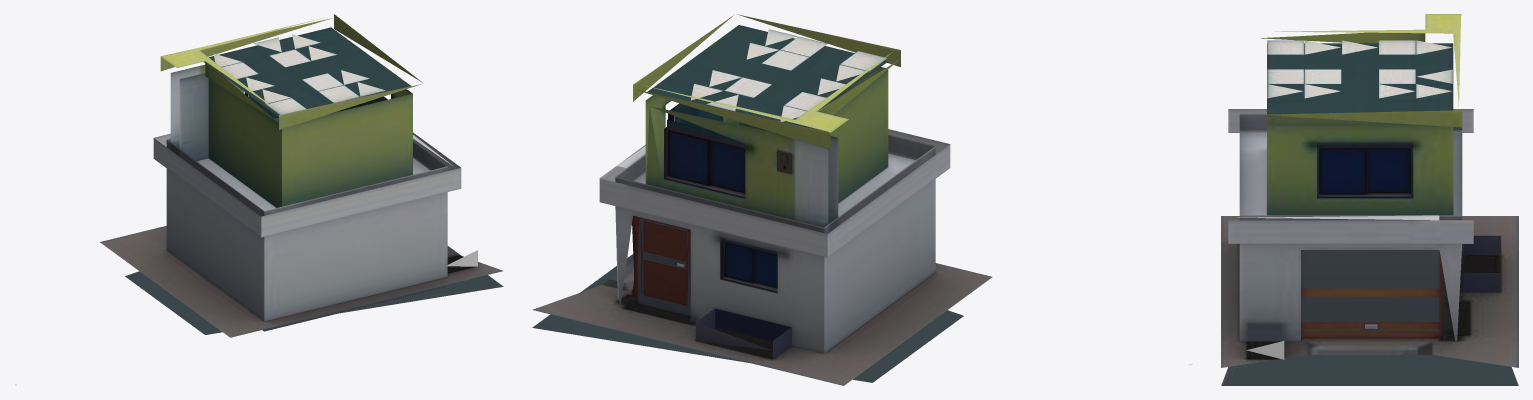
File: casa-estrato-5.glb
3 renders of one model, left to right at view 1: azimuth 30°, elevation 25°; view 2: azimuth 150°, elevation 25°; view 3: azimuth 270°, elevation 25°, orthographic. The views are drawn at different scales.
Visible parts, largest first — view 1: marble 1, verde 1, Piso 1, baldosa; view 2: marble 1, verde 1, Piso 1, Negro 1, baldosa, Madera 1, Matera 1; view 3: marble 1, verde 1, Piso 1, Negro 1, baldosa, Garage 1, Matera 1.
Boxes of the visible parts, x1,y1,x2,y2 form: marble 1: [153, 132, 461, 331]; verde 1: [160, 14, 423, 207]; Piso 1: [100, 226, 503, 337]; baldosa: [213, 34, 385, 116]; marble 1: [599, 129, 950, 353]; verde 1: [633, 14, 900, 227]; Piso 1: [532, 237, 992, 385]; Negro 1: [664, 103, 792, 292]; baldosa: [690, 29, 887, 121]; Madera 1: [632, 215, 690, 306]; Matera 1: [695, 308, 791, 359]; marble 1: [1228, 109, 1473, 341]; verde 1: [1260, 14, 1462, 215]; Piso 1: [1221, 216, 1518, 385]; Negro 1: [1317, 144, 1413, 198]; baldosa: [1267, 40, 1452, 98]; Garage 1: [1301, 250, 1441, 338]; Matera 1: [1247, 235, 1501, 359].
Bounding box in the file's own units: 10.92 × 4.69 × 5.27.
Materials: 10 (10 with a texture image).
